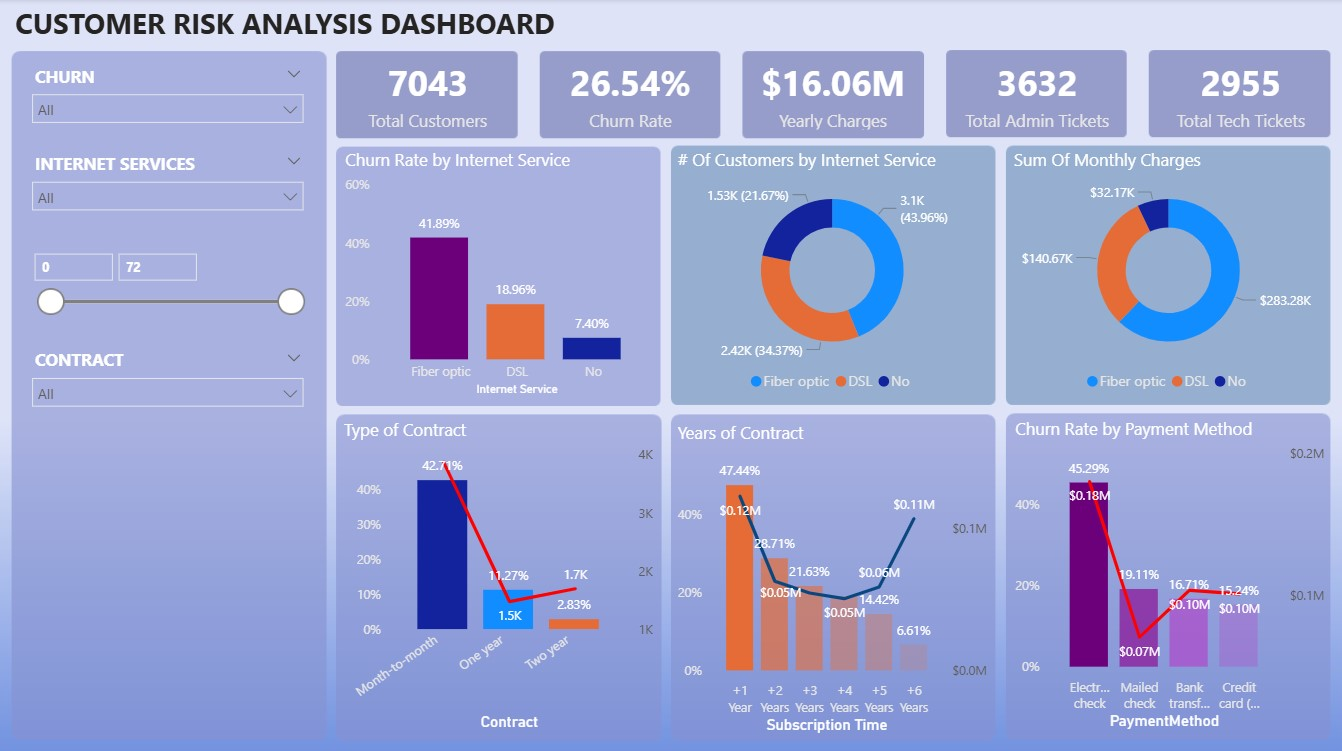

This screenshot's page, from the dashboard's own definition file:
{"tool":"powerbi","page":{"name":"Risk Dashboard","canvas":[1280,720],"ordinal":1},"visuals":[{"type":"slicer","fields":{"Values":["01 Churn-Dataset.Churn"]},"box":[20.2,57.1,278.6,83.3],"z":0},{"type":"slicer","fields":{"Values":["01 Churn-Dataset.InternetService"]},"box":[20.2,140.5,278.6,83.3],"z":1000},{"type":"slicer","fields":{"Values":["01 Churn-Dataset.tenure"]},"box":[20.2,232.1,278.6,83.3],"z":2000},{"type":"slicer","fields":{"Values":["01 Churn-Dataset.Contract"]},"box":[20.2,327.4,278.6,83.3],"z":3000},{"type":"card","title":"Total Customers","fields":{"Values":["CountNonNull(01 Churn-Dataset.customerID)"]},"box":[323.8,52.4,167.9,77.4],"z":4000},{"type":"card","title":"Total Customers","fields":{"Values":["01 Churn-Dataset.ChurnRate"]},"box":[516.3,52.8,168.1,76.8],"z":5000},{"type":"card","title":"Total Customers","fields":{"Values":["Sum(01 Churn-Dataset.TotalCharges)"]},"box":[709.6,52.8,168.1,76.8],"z":6000},{"type":"card","title":"Total Customers","fields":{"Values":["01 Churn-Dataset.# Of Admin Tickets"]},"box":[903.6,52.4,169,76.2],"z":7000},{"type":"card","title":"Total Customers","fields":{"Values":["01 Churn-Dataset.# Of Tech Tickets"]},"box":[1097.8,52.1,168.8,76.8],"z":8000},{"type":"clusteredColumnChart","fields":{"Category":["01 Churn-Dataset.InternetService"],"Y":["01 Churn-Dataset.Churn Rate"]},"box":[323.8,141.3,304.6,241.5],"z":9000},{"type":"donutChart","title":"# Of Customers by Internet Service","fields":{"Category":["01 Churn-Dataset.InternetService"],"Y":["CountNonNull(01 Churn-Dataset.customerID)"]},"box":[640.8,141.3,304.6,241.5],"z":10000},{"type":"donutChart","title":"Sum Of Monthly Charges","fields":{"Category":["01 Churn-Dataset.InternetService"],"Y":["Sum(01 Churn-Dataset.MonthlyCharges)"]},"box":[960.6,141.3,304.6,241.5],"z":11000},{"type":"lineClusteredColumnComboChart","title":"Type of Contract","fields":{"Category":["01 Churn-Dataset.Contract"],"Y":["01 Churn-Dataset.Churn Rate"],"Y2":["CountNonNull(01 Churn-Dataset.customerID)"]},"box":[322.5,399.3,304.6,303.3],"z":12000},{"type":"lineStackedColumnComboChart","title":"Years of Contract","fields":{"Category":["01 Churn-Dataset.Subscription Time"],"Y":["01 Churn-Dataset.Churn Rate"],"Y2":["Sum(01 Churn-Dataset.MonthlyCharges)"]},"box":[640.8,400.7,304.6,303.3],"z":13000},{"type":"lineStackedColumnComboChart","title":"Churn Rate by Payment Method","fields":{"Category":["01 Churn-Dataset.PaymentMethod"],"Y":["01 Churn-Dataset.Churn Rate"],"Y2":["Sum(01 Churn-Dataset.MonthlyCharges)"]},"box":[961.9,397.9,304.6,303.3],"z":14000},{"type":"textbox","box":[9.5,0,617.9,46.4],"z":15000}]}

Visuals, with their boxes in screenshot pixels (x1, y1, x2, y2), scaled from the page's 1280x720 canvas onto the 1342x751 screenshot:
slicer - 01 Churn-Dataset.Churn: (21, 60, 313, 146)
slicer - 01 Churn-Dataset.InternetService: (21, 147, 313, 233)
slicer - 01 Churn-Dataset.tenure: (21, 242, 313, 329)
slicer - 01 Churn-Dataset.Contract: (21, 341, 313, 428)
"Total Customers" card: (339, 55, 516, 135)
"Total Customers" card: (541, 55, 718, 135)
"Total Customers" card: (744, 55, 920, 135)
"Total Customers" card: (947, 55, 1125, 134)
"Total Customers" card: (1151, 54, 1328, 134)
clusteredColumnChart - 01 Churn-Dataset.InternetService x 01 Churn-Dataset.Churn Rate: (339, 147, 659, 399)
"# Of Customers by Internet Service" donutChart: (672, 147, 991, 399)
"Sum Of Monthly Charges" donutChart: (1007, 147, 1326, 399)
"Type of Contract" lineClusteredColumnComboChart: (338, 416, 657, 733)
"Years of Contract" lineStackedColumnComboChart: (672, 418, 991, 734)
"Churn Rate by Payment Method" lineStackedColumnComboChart: (1008, 415, 1328, 731)
textbox: (10, 0, 658, 48)
